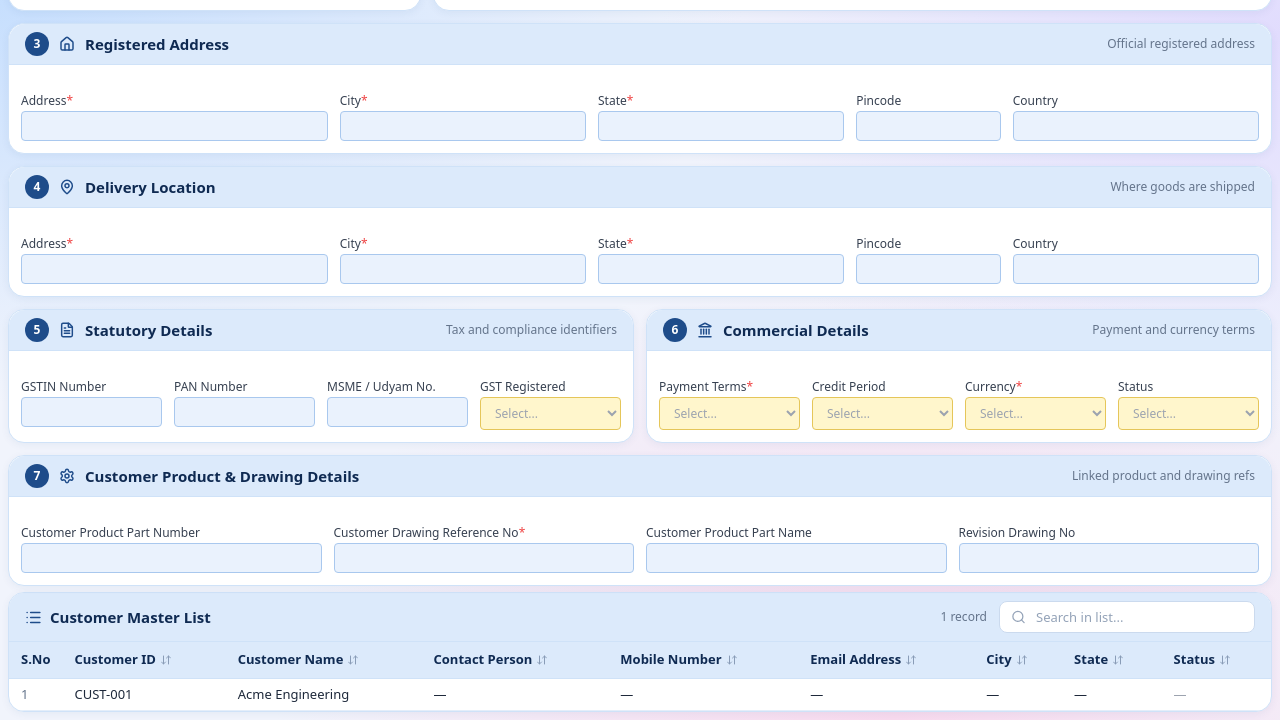
Scenario: Customer Master delete › Cancel closes the dialog without deleting
This screenshot has width=1280, height=720.
(page scrolled)
Click the text "CUST-001" at (104, 694), box [62,678,226,710]
(page scrolled)
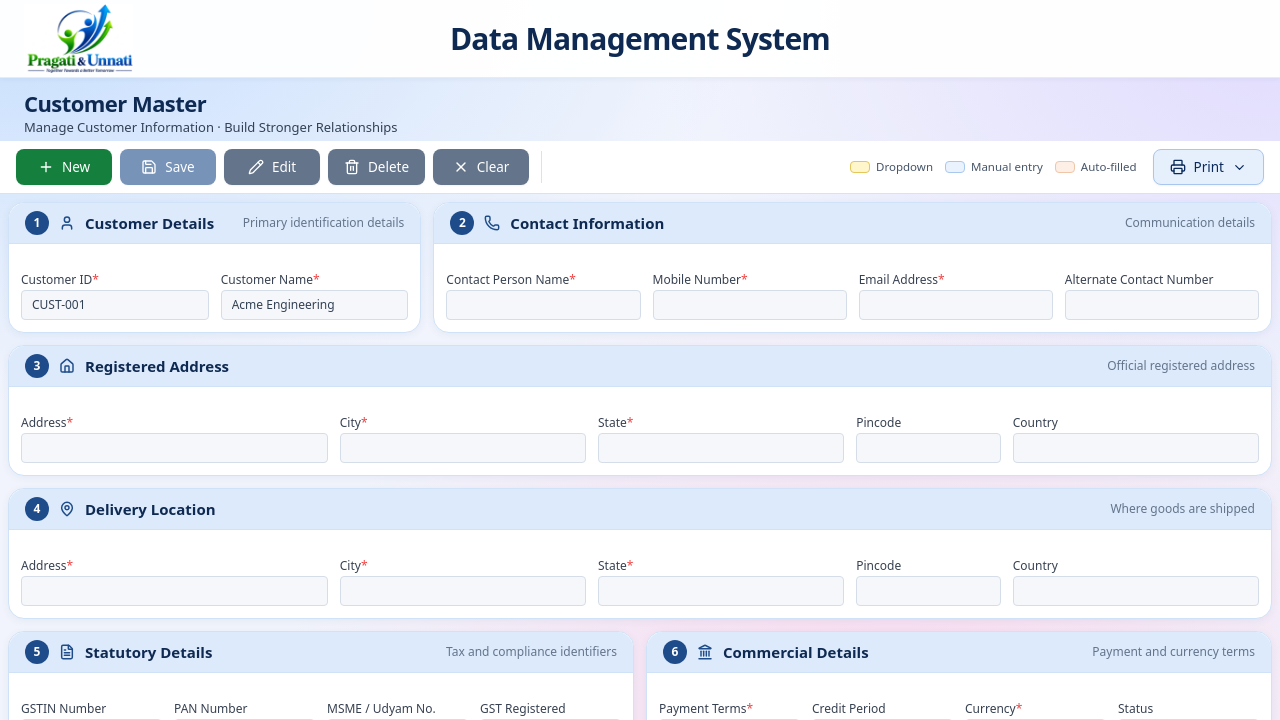
Click the button "Delete" at (377, 167), box [328,149,425,185]
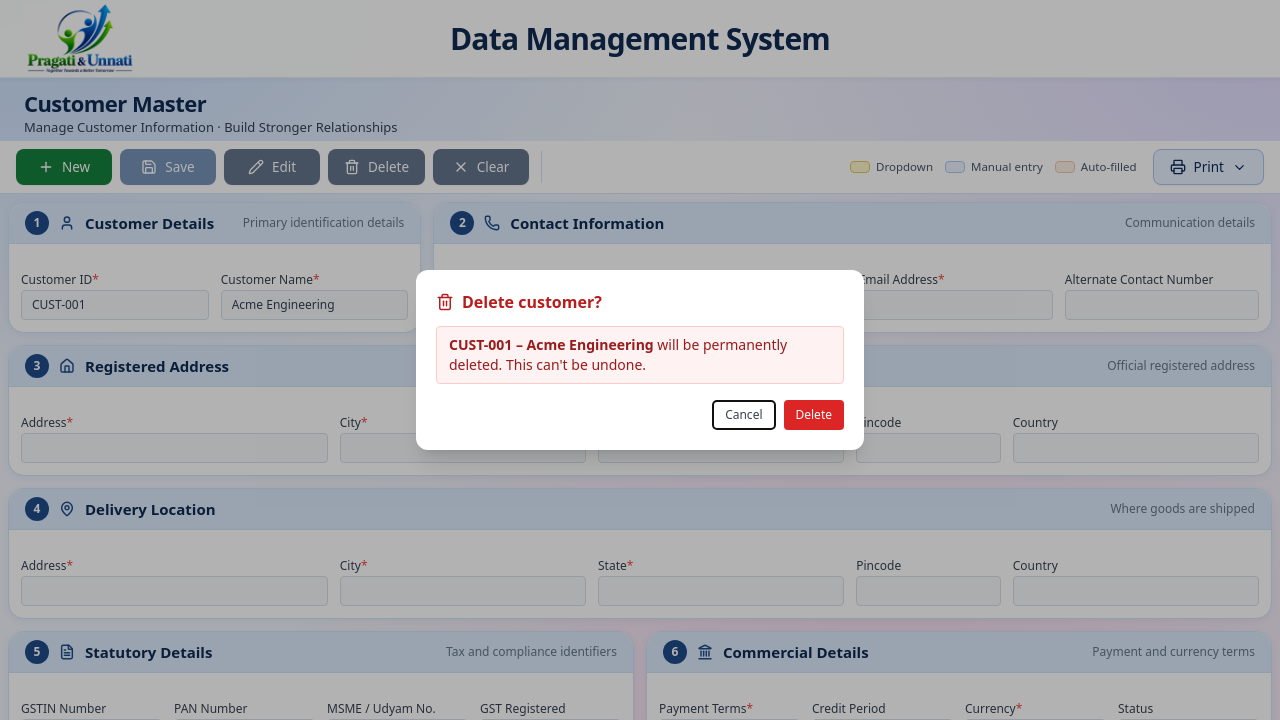
Expected: the dialog shows "Delete customer?", [462,291,602,313]
Expected: the dialog shows "CUST-001 – Acme Engineering will be permanently deleted."
Click the button "Cancel" at (744, 415), box [712,400,776,430]
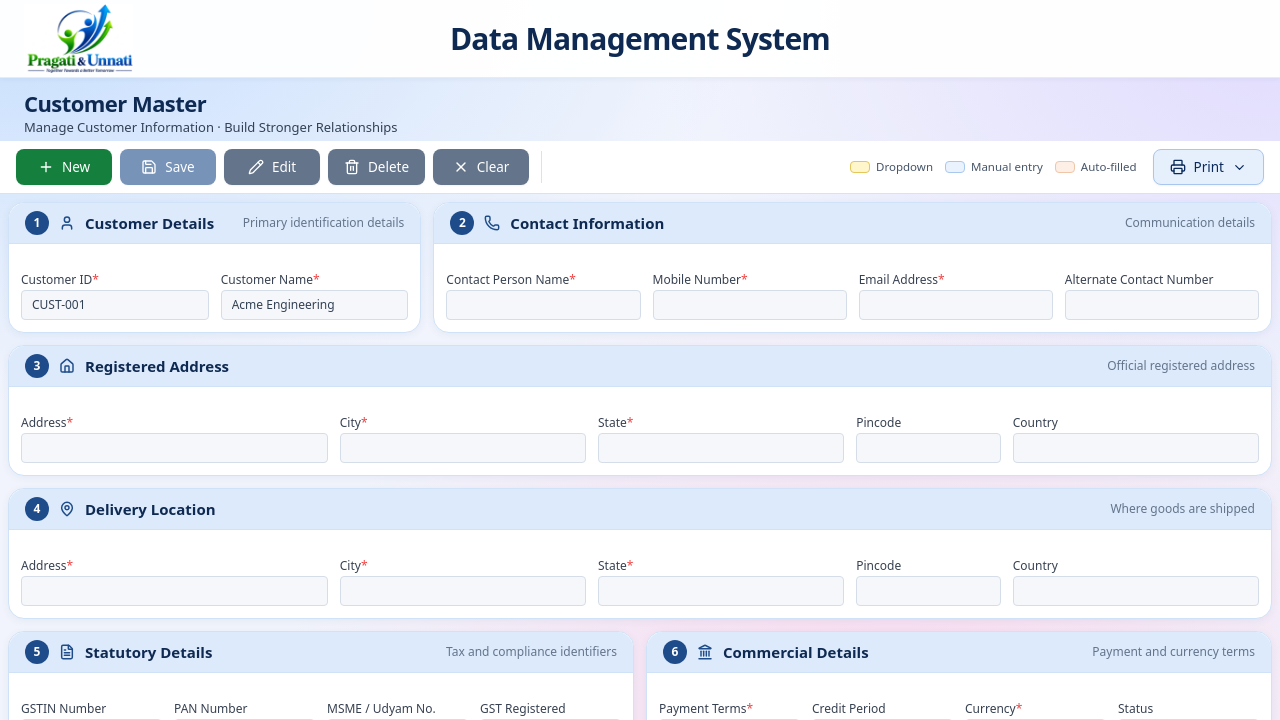
Expected: the dialog is gone
